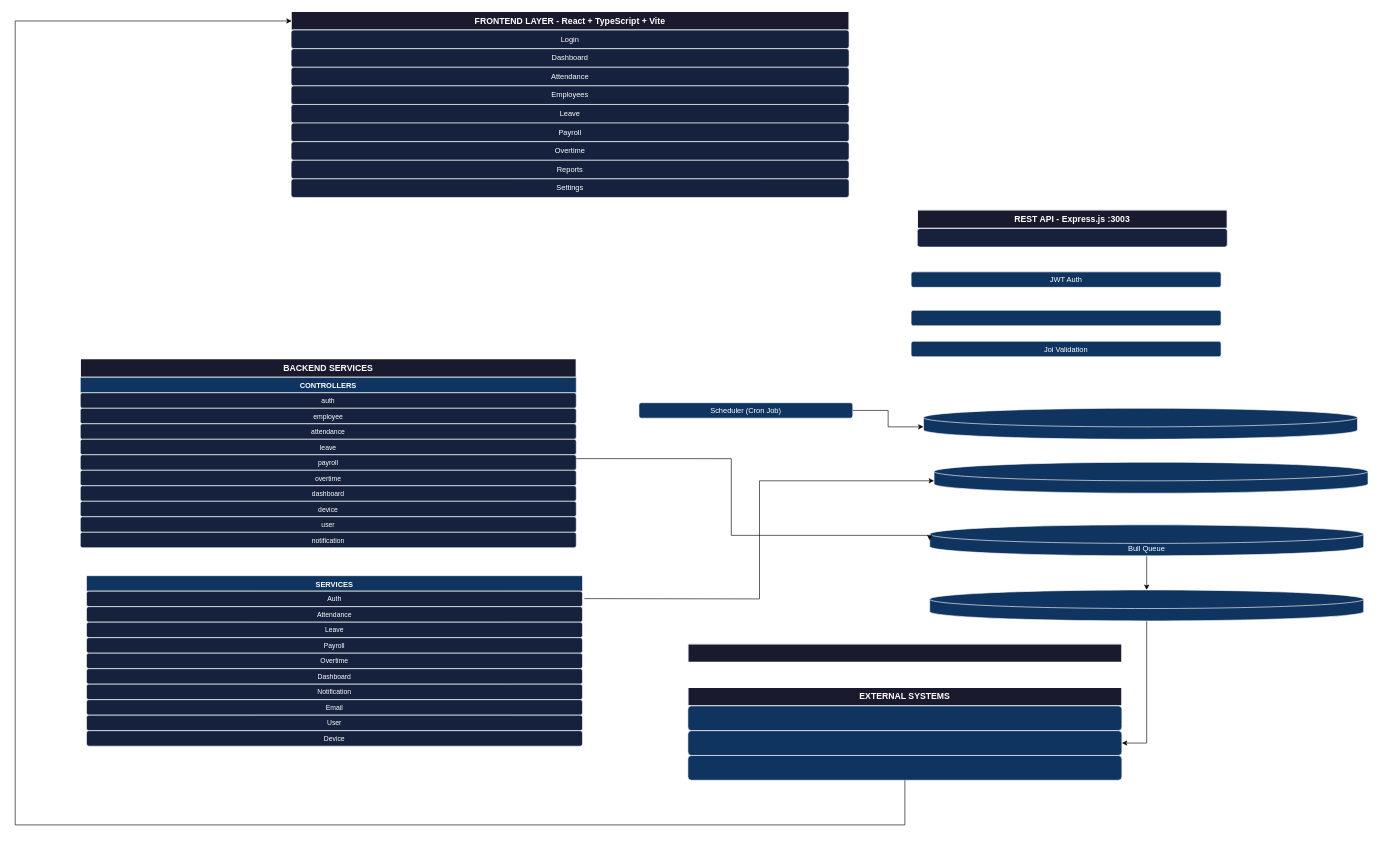
This 1379x841 diagram has some shape labels left out. Each missing label, with the centre of its shape:
API Endpoints: point 1072,237
DATA LAYER: point 904,653
PostgreSQL: point 1140,423
RBAC: point 1065,318
Redis: point 1150,477
SMTP Server: point 904,742
Socket.IO: point 904,767
Worker: point 1146,605
ZKTeco MB560-VL: point 904,718
